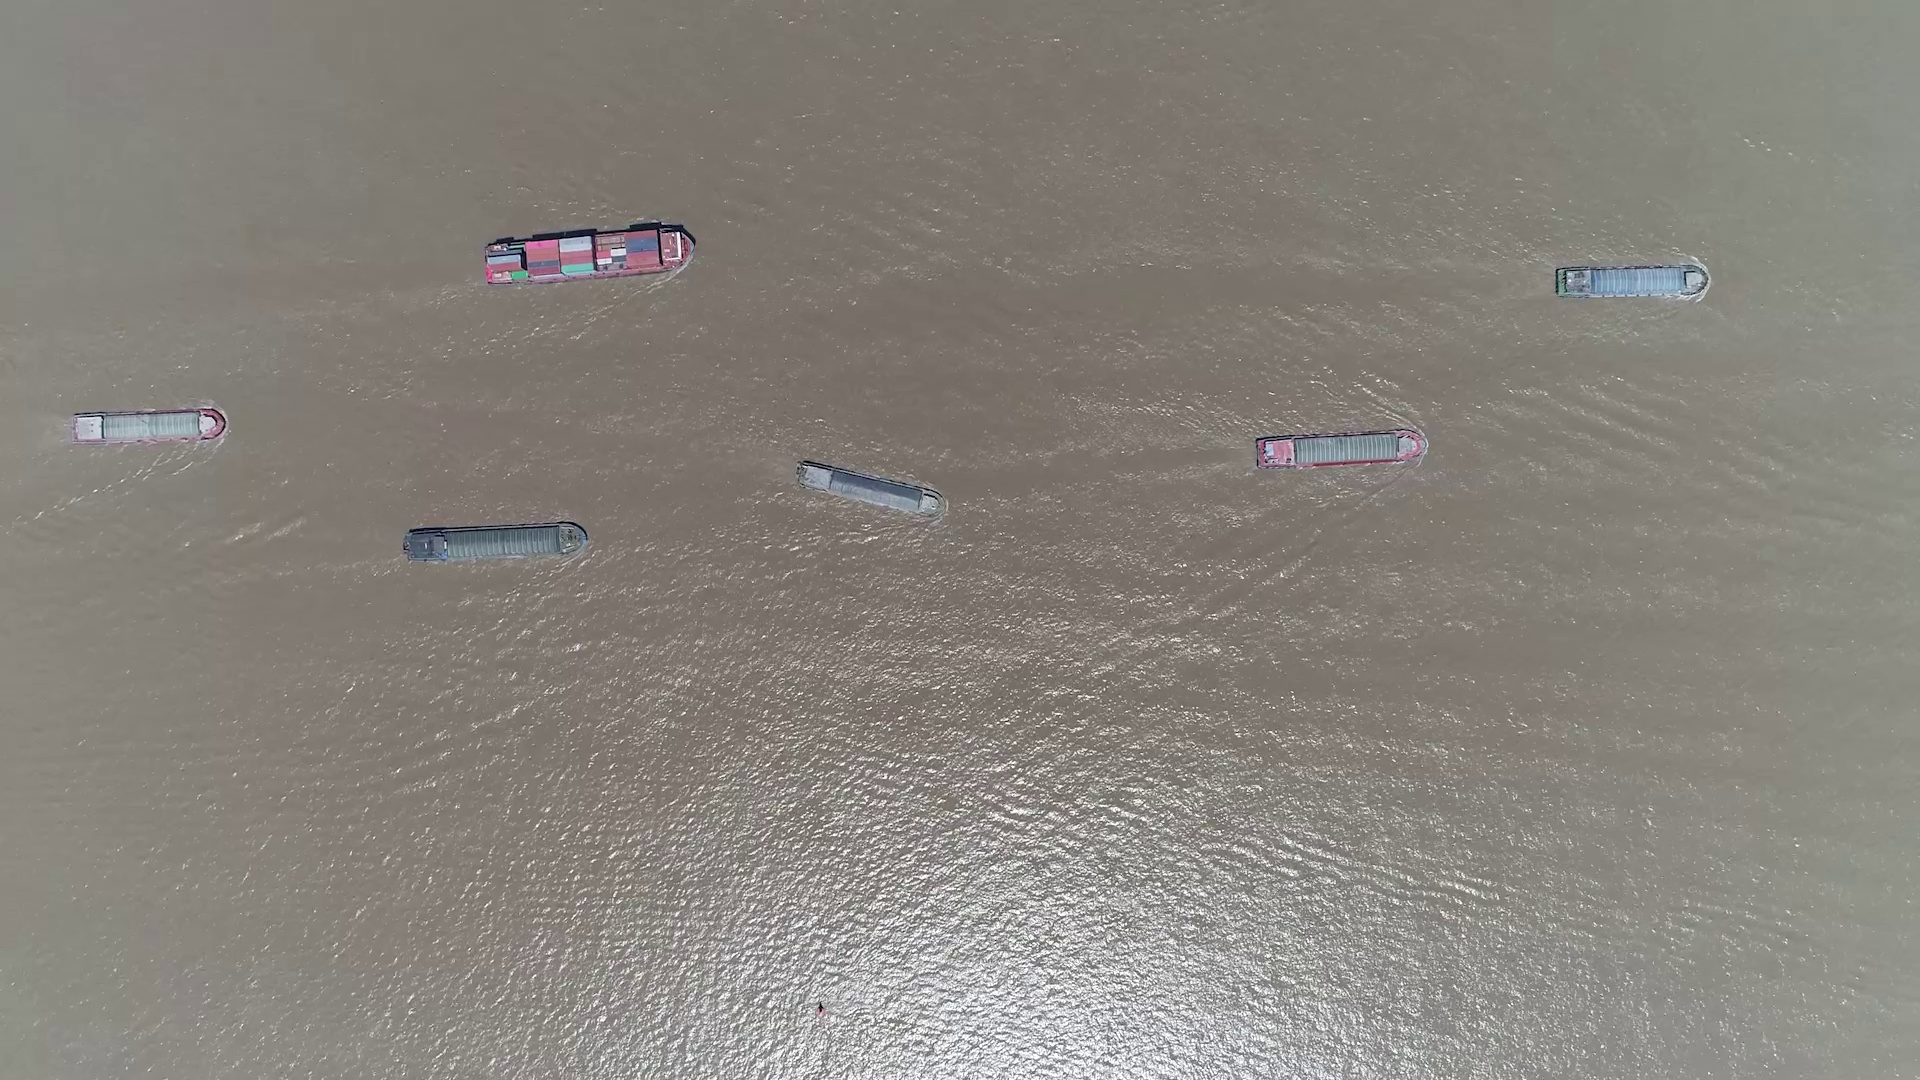ship: (485, 229, 695, 286), (796, 462, 943, 518), (404, 522, 585, 563), (1255, 431, 1428, 469), (70, 409, 223, 443), (1557, 265, 1706, 298)
